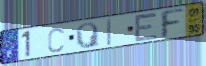1: (20, 30, 32, 59)
C: (47, 27, 66, 54)
E: (133, 12, 160, 43)
F: (159, 8, 186, 40)
I: (106, 17, 113, 48)
Q: (75, 21, 101, 50)
